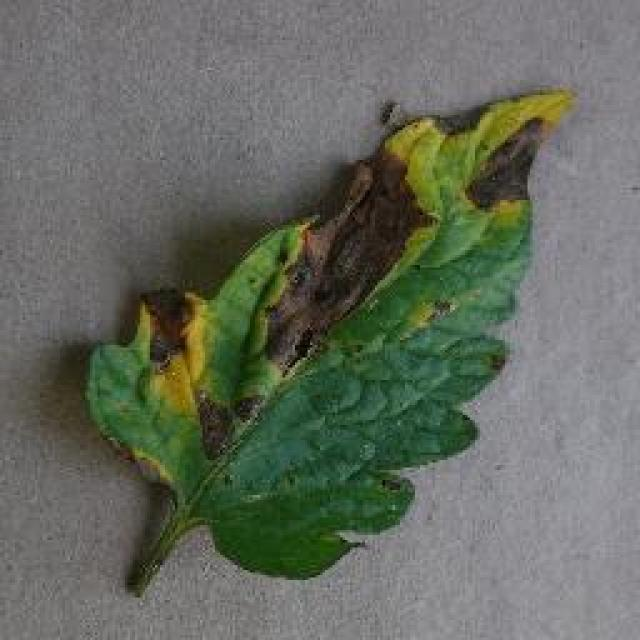Tomato Early blight leaf: (79, 64, 571, 594)
